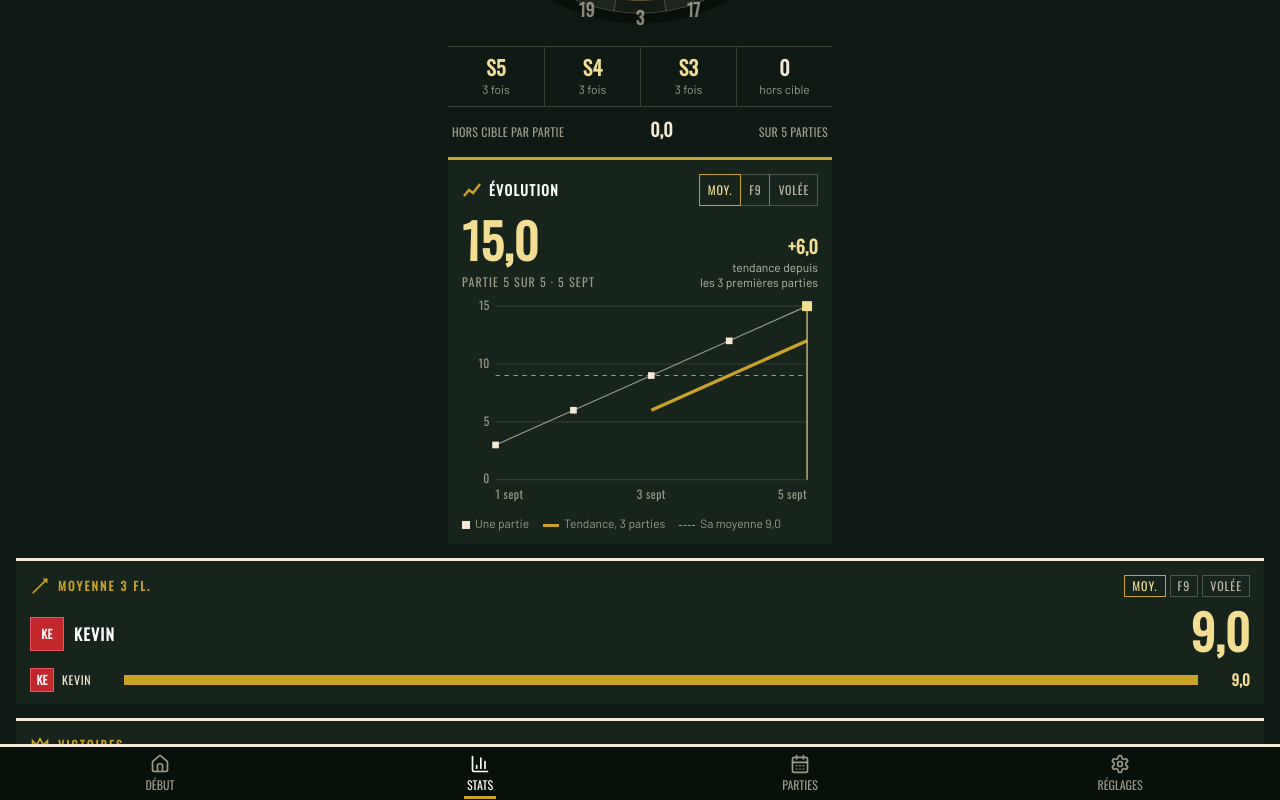
Test: Évolution — au-delà de 14 parties, la courbe défile › un glissé ne sélectionne jamais, même quand la courbe tient
This screenshot has width=1280, height=800.
(page scrolled)
Press the mouse on the element showing "1 sept 3 sept 5 sept": (654, 401) [490, 295, 818, 506]
Expected: the element that starts with "Partie 5 sur 5 · 5 sept" is shown, [462, 273, 595, 290]
Press the mouse on the element showing "1 sept 3 sept 5 sept": (654, 401) [490, 295, 818, 506]
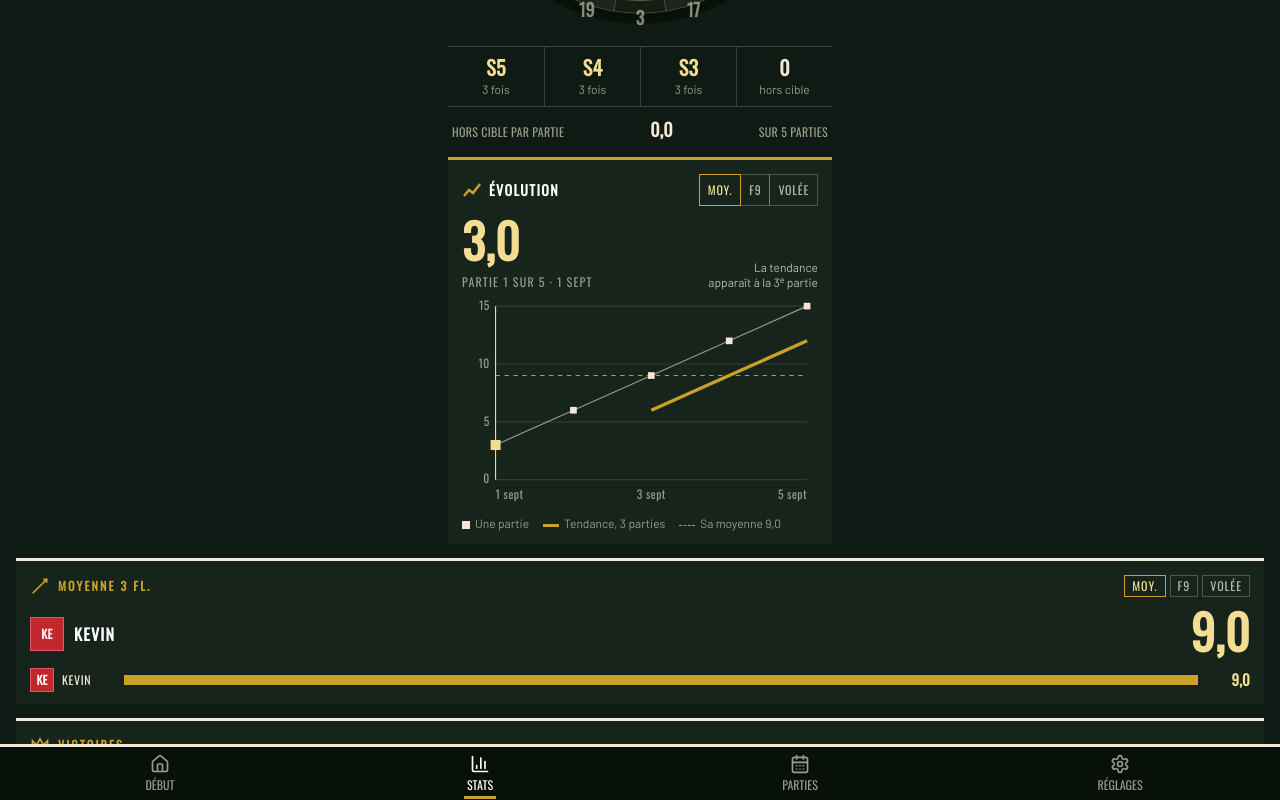
Expected: the element that starts with "Partie 1 sur 5 · 1 sept" is shown, [462, 273, 593, 290]
